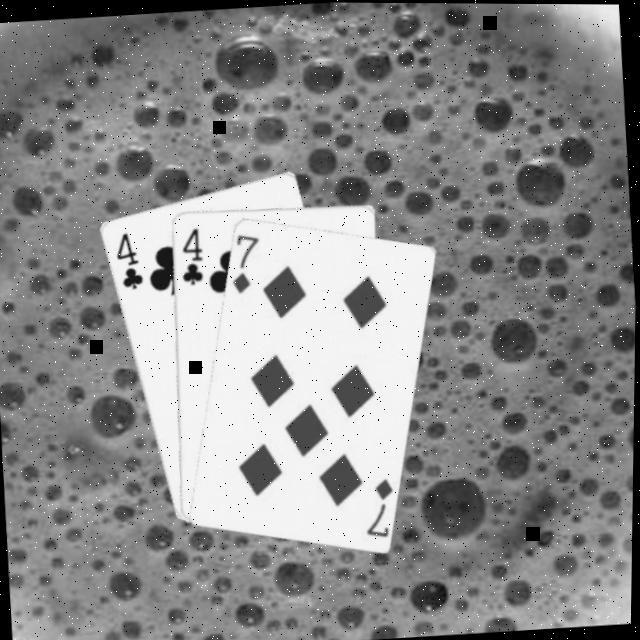4C: (110, 228, 147, 292), (174, 224, 207, 288)
7D: (359, 474, 398, 540), (226, 231, 264, 297)
